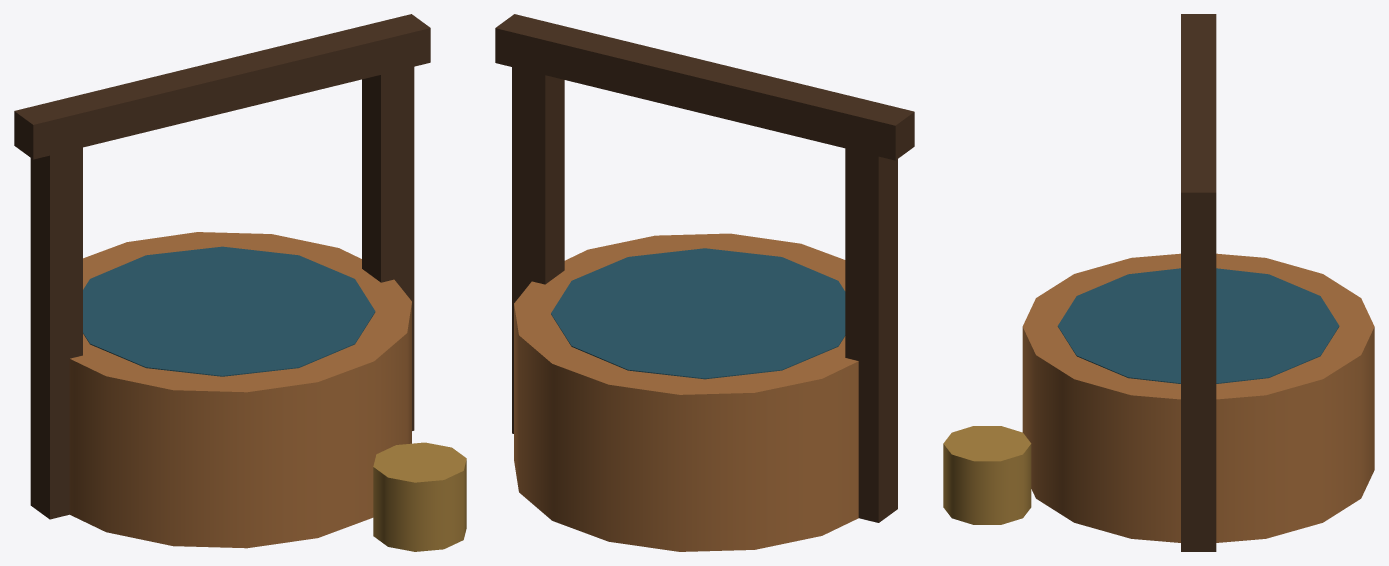
File: well.glb
The picture shows the model from 3 angles, left to right: view 1: azimuth 30°, elevation 25°; view 2: azimuth 150°, elevation 25°; view 3: azimuth 270°, elevation 25°; orthographic projection. The views are drawn at different scales.
Visible parts, largest first — view 1: Well; view 2: Well; view 3: Well.
Part boxes in pixels (x1,y1,x2,y2): Well: [14, 14, 466, 551]; Well: [495, 14, 914, 551]; Well: [943, 14, 1374, 551].
Bounding box in the file's own units: 2.4 × 2.3 × 2.45.
